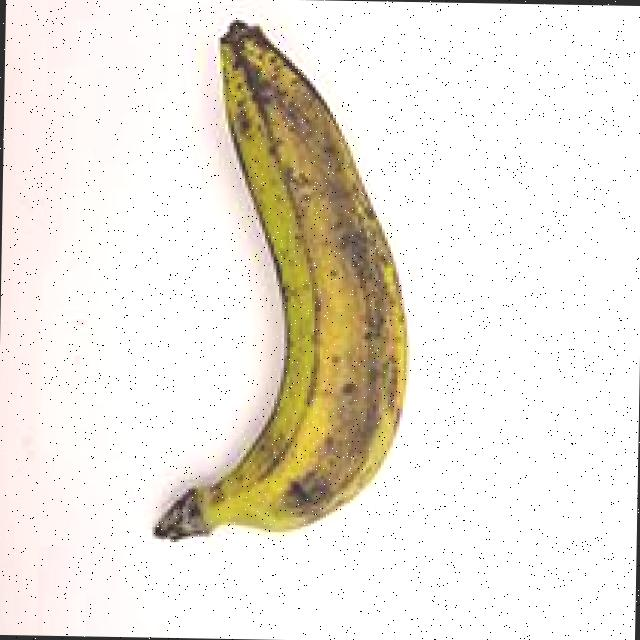Overripe: (116, 9, 434, 554)
